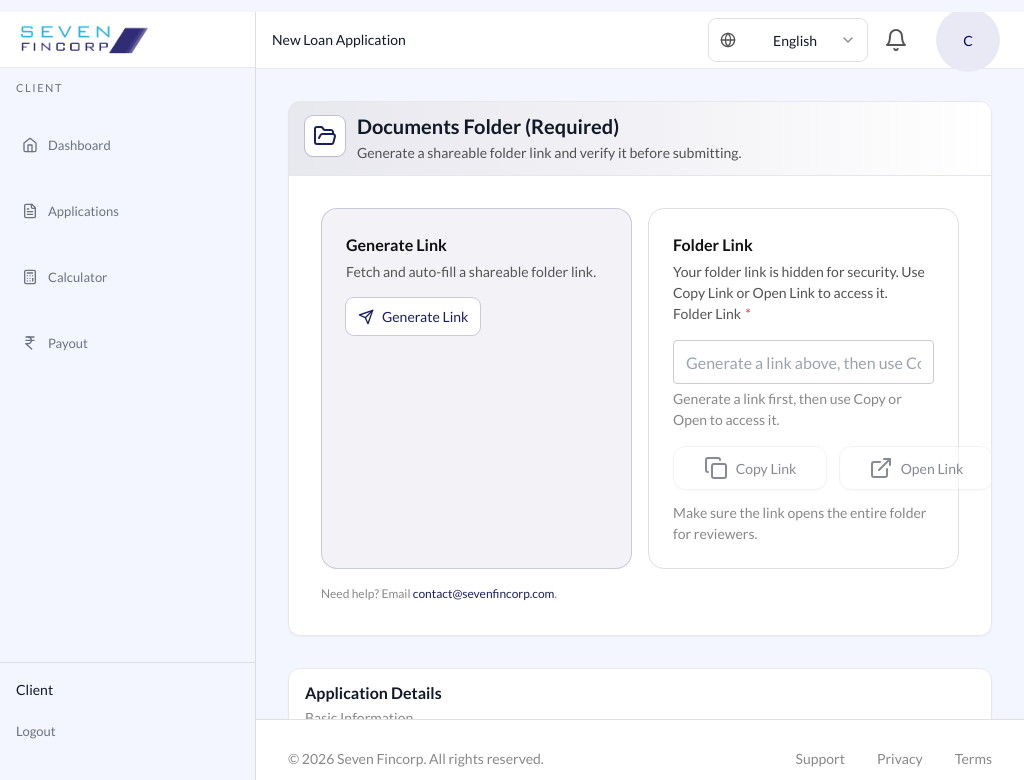
NewApplication Page - P0 Tests › Documents folder link generation › marks the generated link used when Copy Link is clicked
The image size is (1024, 780).
Click the button with test id "generate-link-button".
click(396, 244)  # box [321,208,632,569]
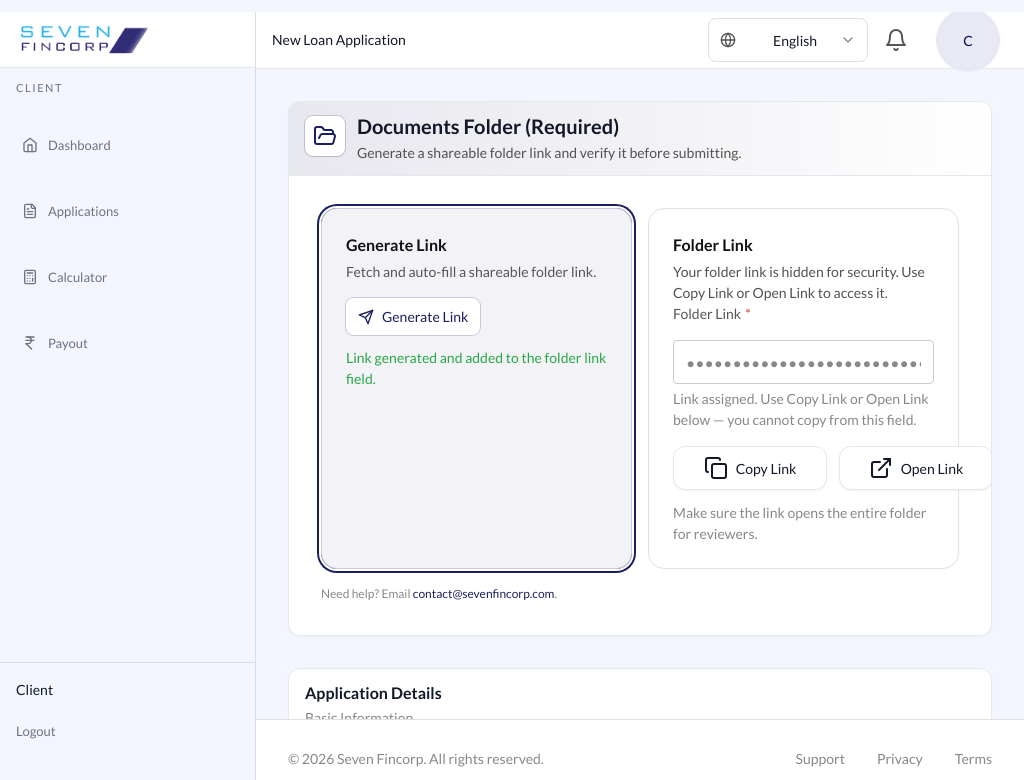
Expected: the field with id "_documentsFolderLink" has attribute data-folder-link-assigned="true", [673,340,934,384]
Click the button with test id "copy-folder-link".
click(750, 468)  # box [673,446,827,490]
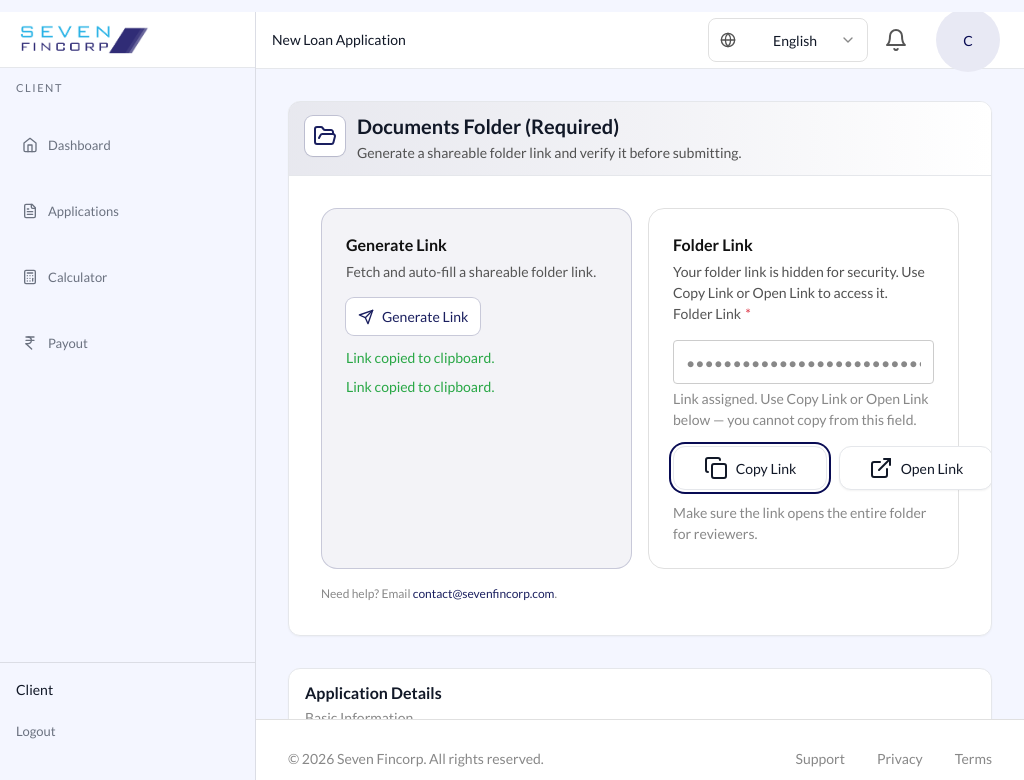
Expected: the 1st text "Link copied to clipboard." is shown, [346,349,494,366]
